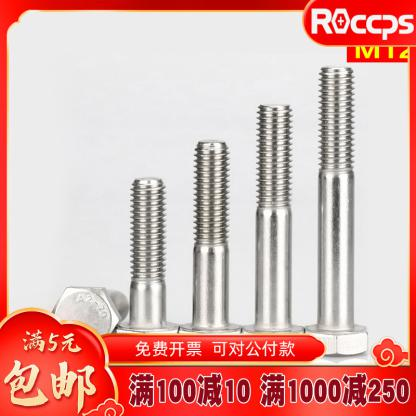FOD: (302, 64, 371, 358), (242, 103, 305, 354), (178, 136, 242, 360), (113, 174, 178, 356), (48, 283, 130, 344)
